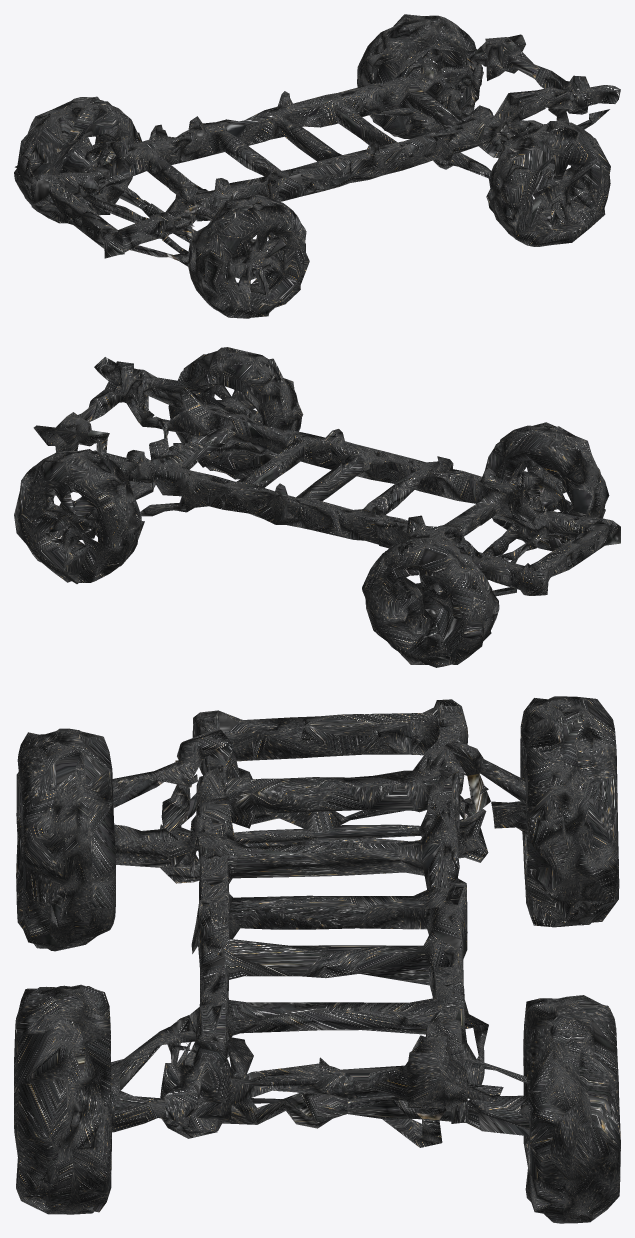
The model's file is sasis-bensin-far.glb.
3 renders of one model, top to bottom at view 1: azimuth 30°, elevation 25°; view 2: azimuth 150°, elevation 25°; view 3: azimuth 270°, elevation 25°, orthographic. The views are drawn at different scales.
Bounding box in the file's own units: 1.89 × 0.4168 × 1.09.
1 material, 1 textured.
